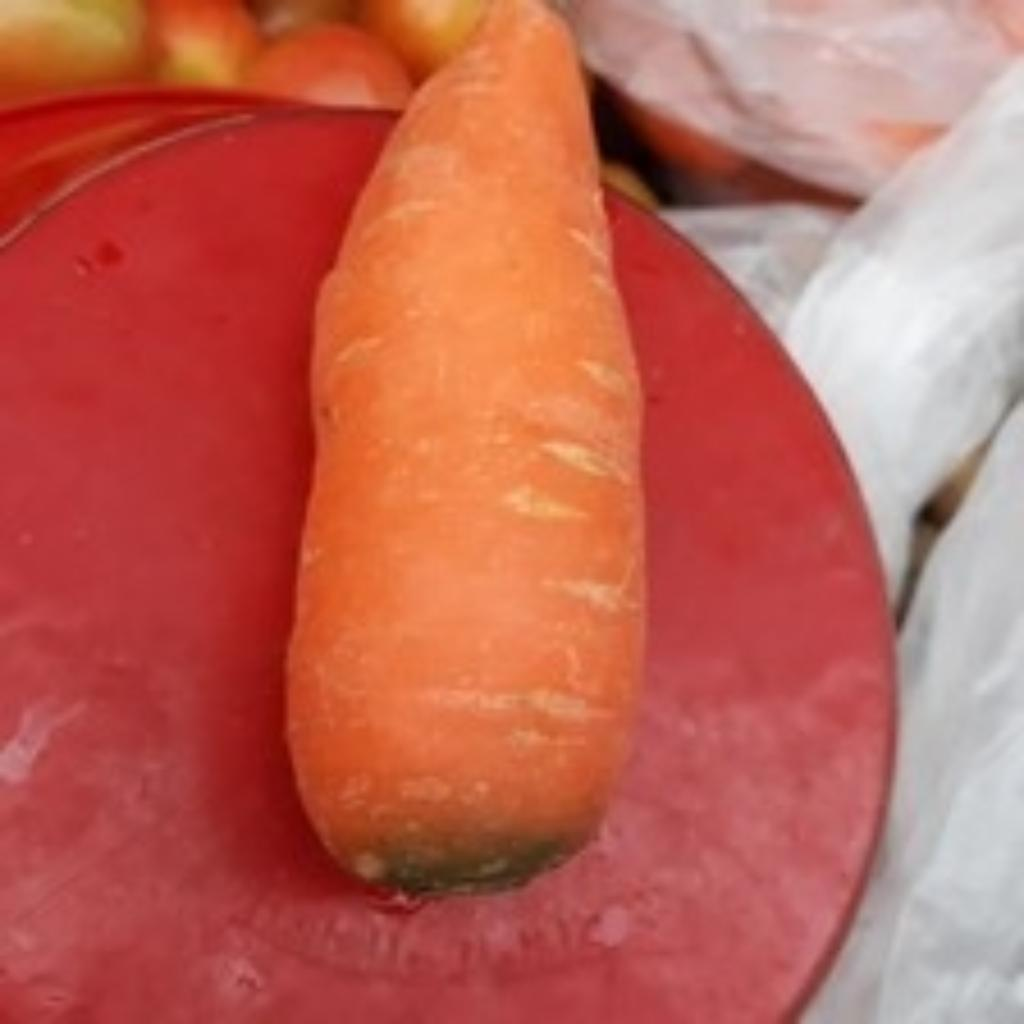carrot: (283, 0, 635, 882)
